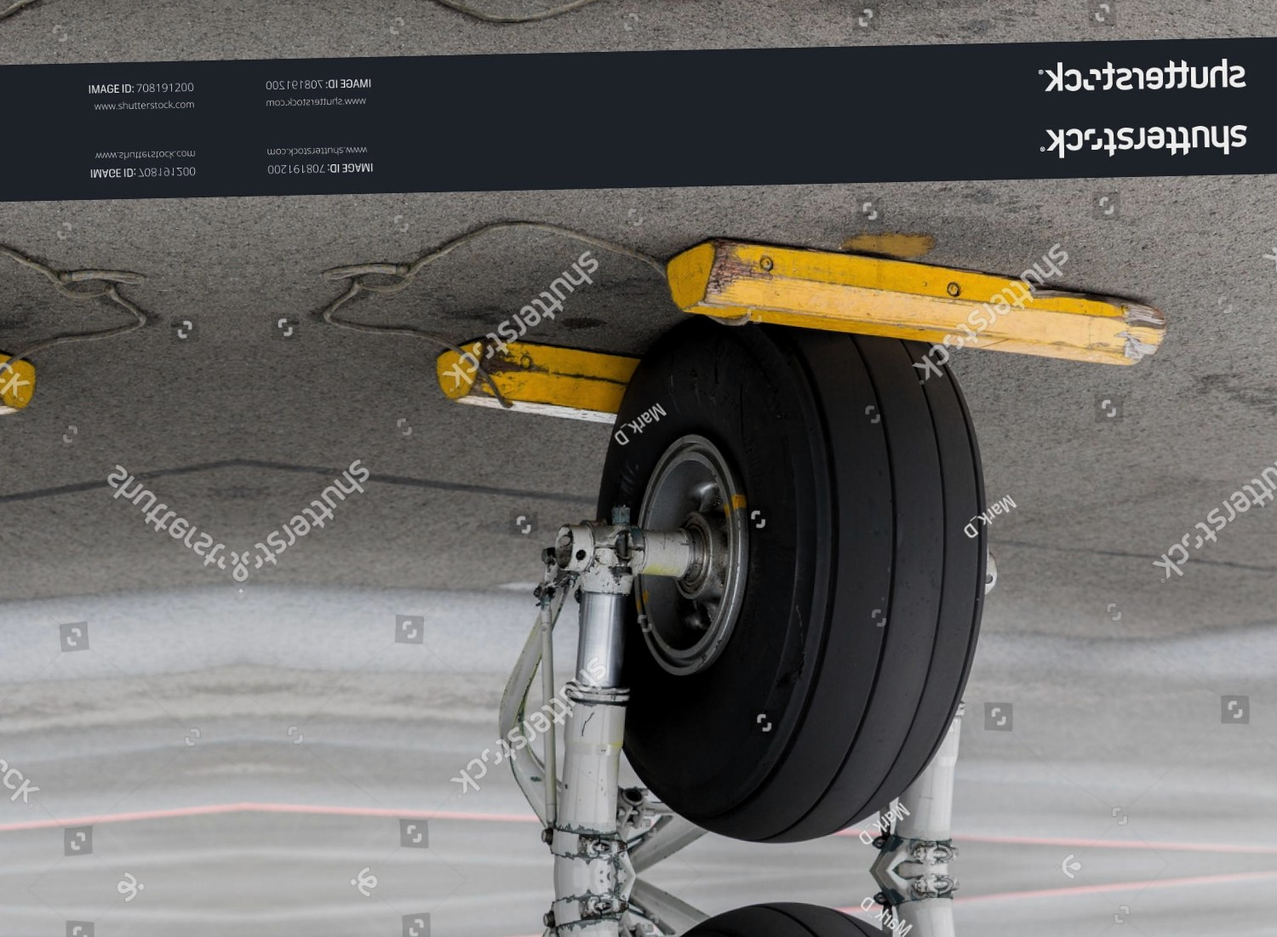chock: (657, 229, 1170, 380), (433, 330, 788, 432)
wheel: (612, 305, 996, 853)
